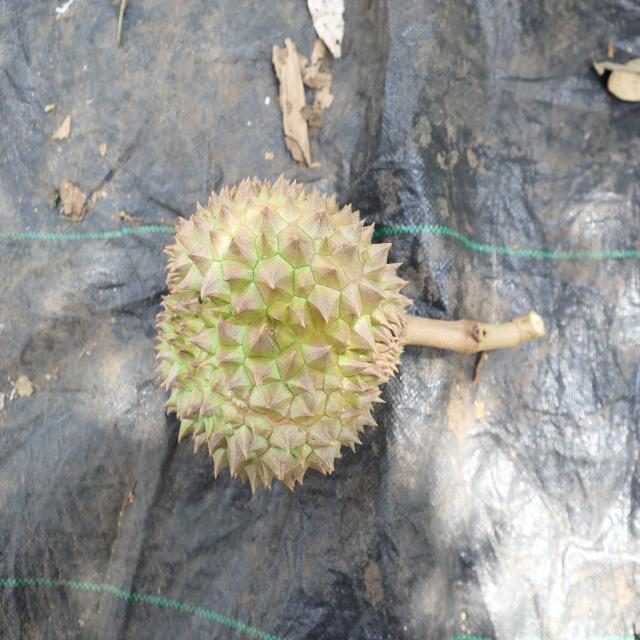mature: (152, 176, 414, 491)
